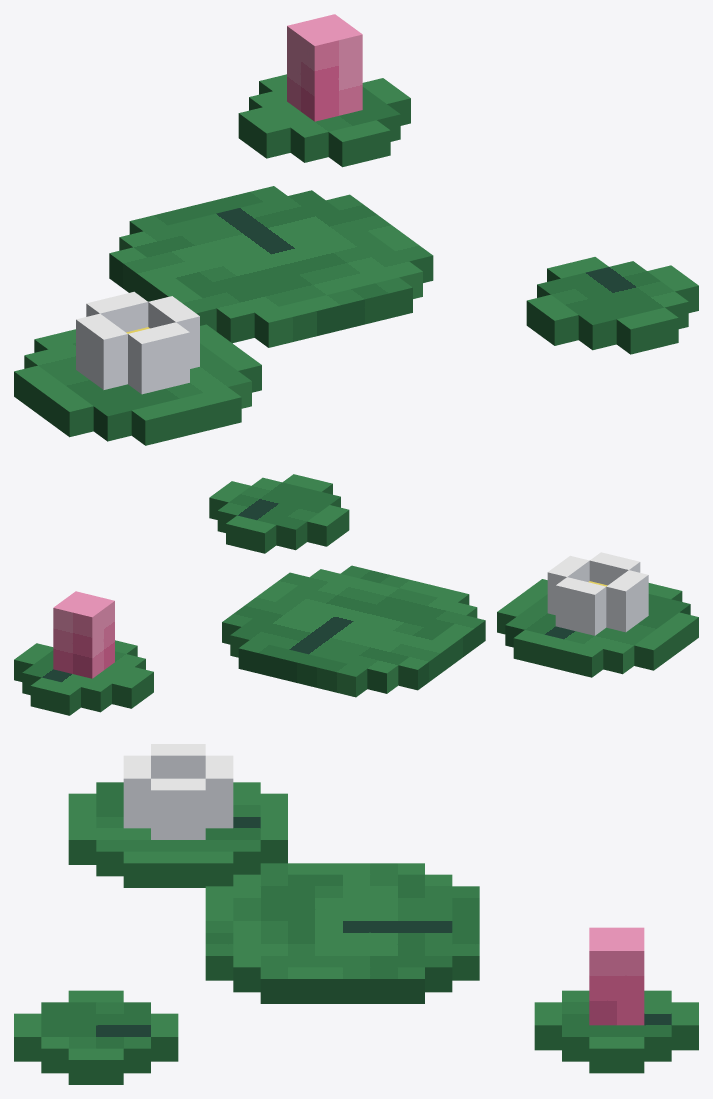
The model's file is lilies_1.glb.
3 renders of one model, top to bottom at view 1: azimuth 30°, elevation 25°; view 2: azimuth 150°, elevation 25°; view 3: azimuth 270°, elevation 25°, orthographic. The views are drawn at different scales.
Visible parts, largest first — view 1: body; view 2: body; view 3: body.
Boxes of the visible parts, x1,y1,x2,y2 form: body: (14,14,698,445); body: (14,474,698,715); body: (14,744,698,1084).
Size of the model in its own units: 0.7812 by 0.125 by 0.7812.
1 material, 1 textured.
